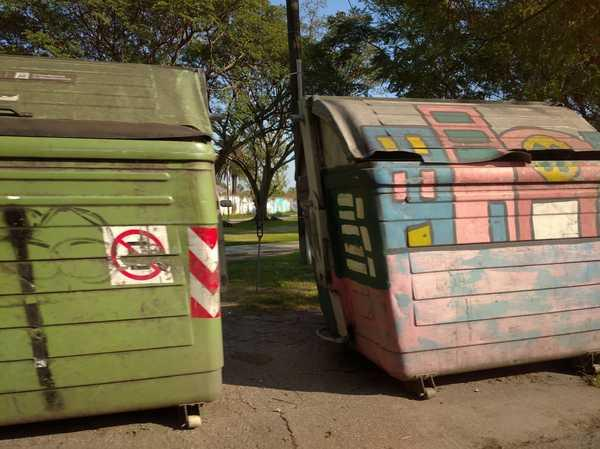Trash: (296, 95, 599, 396), (0, 56, 223, 429)
